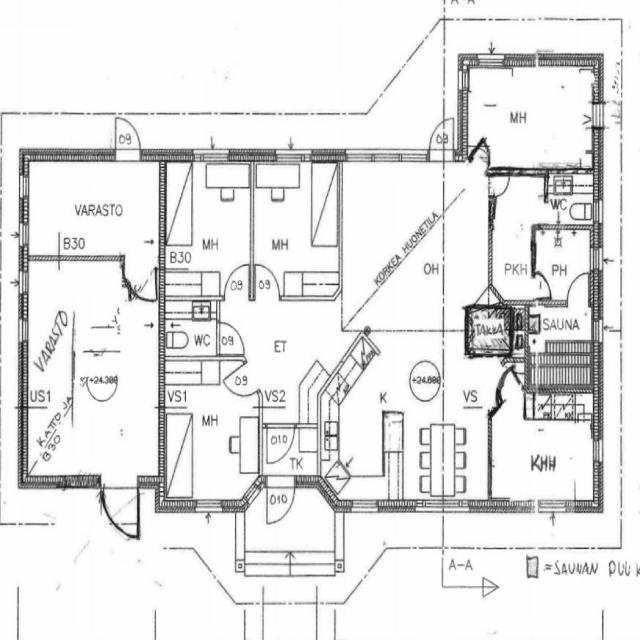door: (100, 477, 138, 538), (223, 362, 259, 407), (124, 255, 155, 303), (489, 365, 522, 410), (267, 476, 295, 524), (267, 424, 295, 465), (468, 136, 497, 175), (430, 116, 454, 162), (117, 117, 141, 161), (224, 264, 248, 300), (255, 265, 279, 300), (216, 322, 243, 353), (568, 274, 588, 306), (532, 275, 553, 299), (489, 180, 508, 200)
